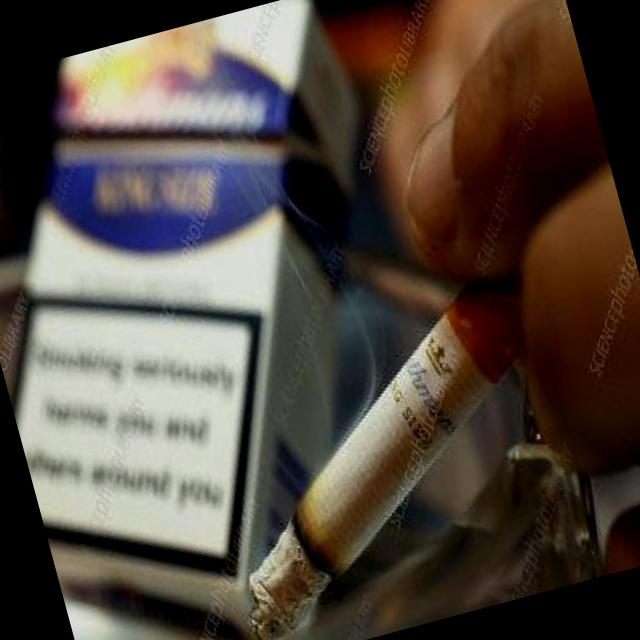cigarette: (126, 170, 631, 640)
